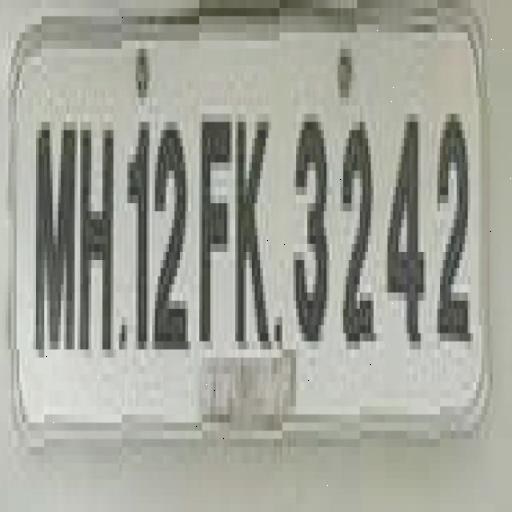number plate: (0, 0, 489, 446)
